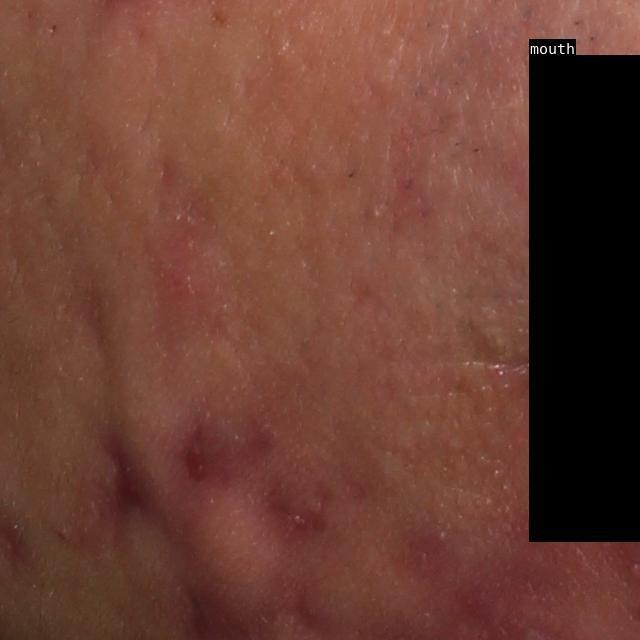atrophic_scar: (137, 160, 232, 349), (67, 273, 121, 391), (184, 426, 274, 484), (110, 429, 155, 545)
